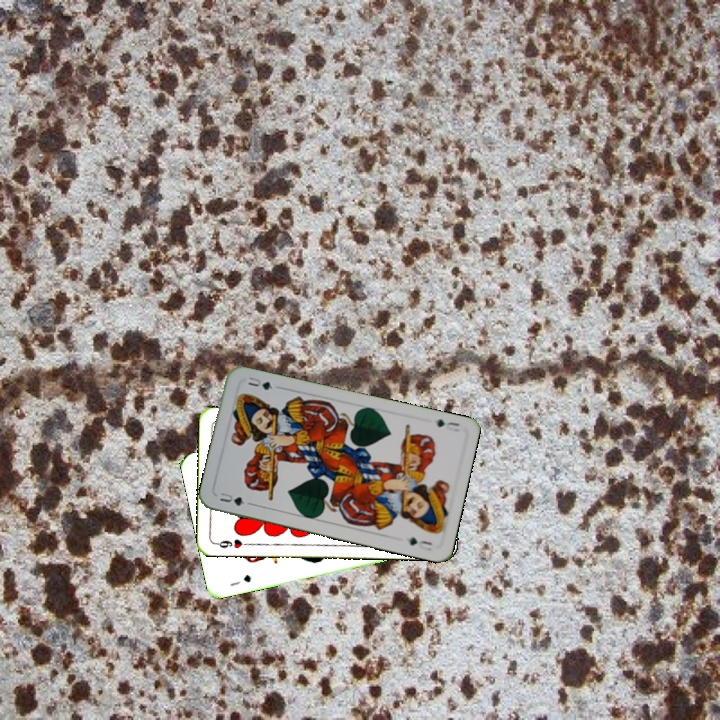GU: (216, 488, 247, 508), (433, 415, 462, 434), (226, 571, 253, 589)
H9: (211, 535, 252, 551)
